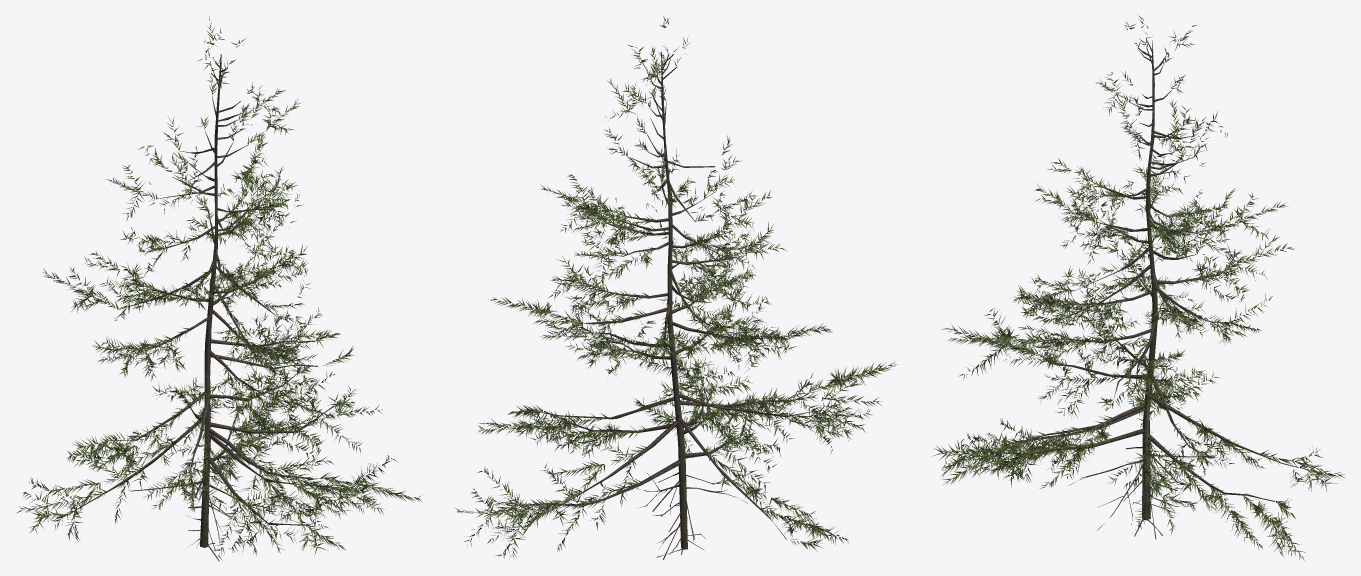
File: fir_medium_c_lodmid.gltf
The picture shows the model from 3 angles, left to right: view 1: azimuth 30°, elevation 25°; view 2: azimuth 150°, elevation 25°; view 3: azimuth 270°, elevation 25°; orthographic projection.
Visible parts, largest first — view 1: fir_sapling_medium_c_LOD0.002, fir_sapling_medium_c_LOD0.001, fir_sapling_medium_c_LOD0; view 2: fir_sapling_medium_c_LOD0.002, fir_sapling_medium_c_LOD0.001, fir_sapling_medium_c_LOD0; view 3: fir_sapling_medium_c_LOD0.002, fir_sapling_medium_c_LOD0.001, fir_sapling_medium_c_LOD0.
Boxes of the visible parts, x1,y1,x2,y2 form: fir_sapling_medium_c_LOD0.002: (15, 16, 423, 560); fir_sapling_medium_c_LOD0.001: (71, 54, 334, 547); fir_sapling_medium_c_LOD0: (128, 471, 300, 561); fir_sapling_medium_c_LOD0.002: (454, 16, 897, 559); fir_sapling_medium_c_LOD0.001: (519, 51, 810, 549); fir_sapling_medium_c_LOD0: (637, 472, 747, 559); fir_sapling_medium_c_LOD0.002: (932, 15, 1344, 560); fir_sapling_medium_c_LOD0.001: (981, 38, 1298, 520); fir_sapling_medium_c_LOD0: (1068, 446, 1212, 539).
Size of the model in its own units: 4.01 by 5.54 by 3.98.
Materials: 3 (3 with a texture image).
